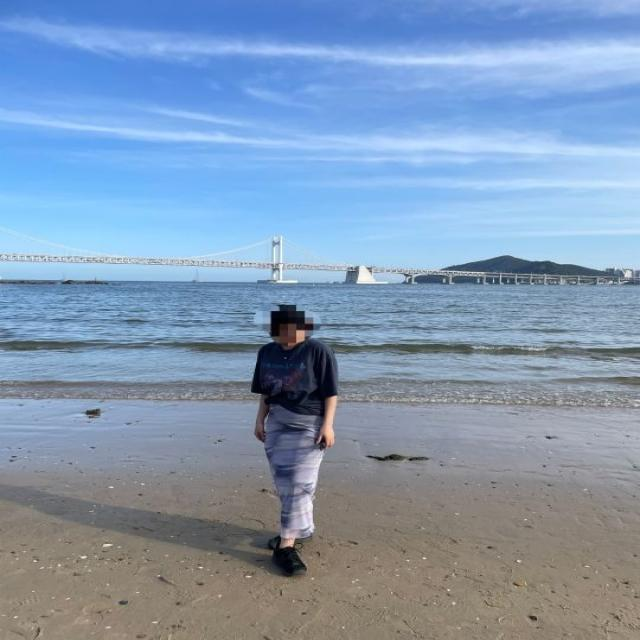shortsleeve: (248, 336, 340, 414)
skirt: (262, 399, 325, 538)
